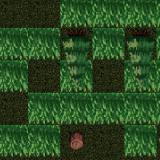Obstacle: (59, 125, 92, 158), (124, 27, 156, 59), (61, 27, 92, 59)
Slow: (28, 93, 160, 125), (60, 0, 160, 28), (0, 126, 60, 158), (0, 27, 60, 59), (123, 61, 160, 92), (124, 124, 157, 158), (59, 60, 93, 93), (92, 27, 124, 59), (0, 60, 28, 93)
